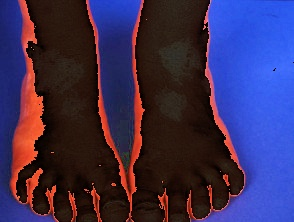vitiligo: (20, 29, 102, 145), (145, 24, 216, 135)
